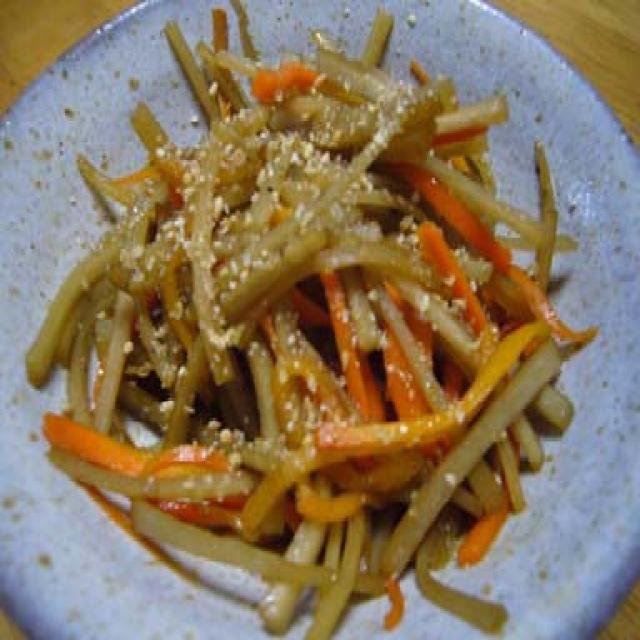蔬菜料理: (17, 36, 623, 624)
